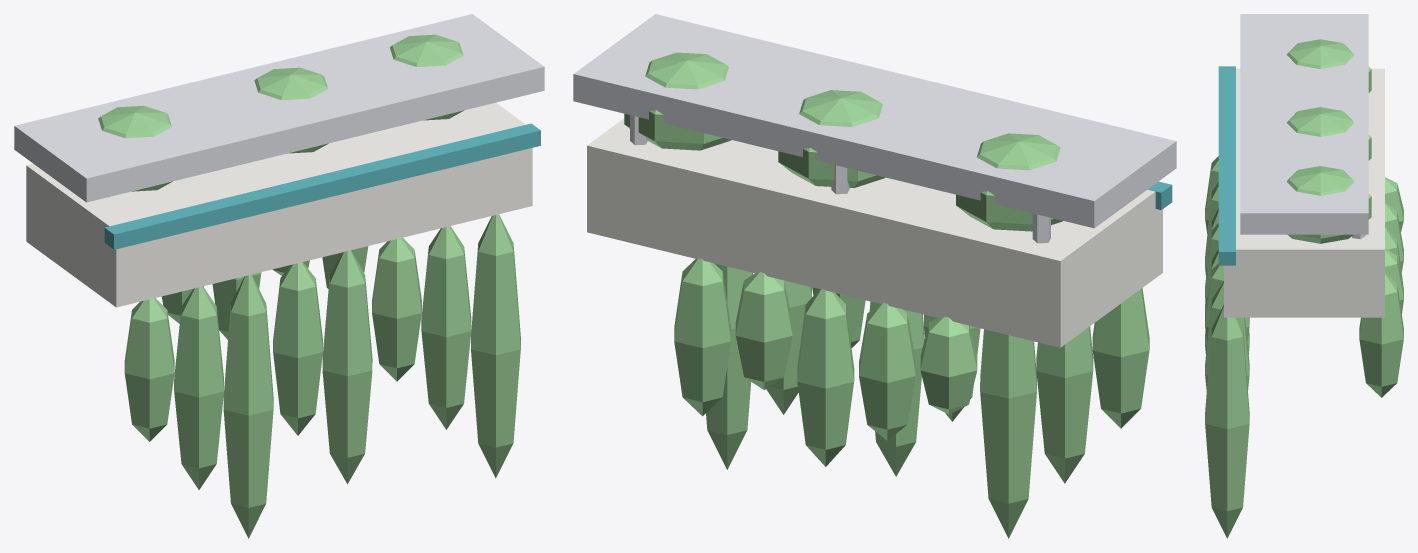
File: arcology-towers-and-skyways-hanging-garden-planter-0a31c0d8__23278.glb
3 views of the same model, side by side, from view 1: azimuth 30°, elevation 25°; view 2: azimuth 150°, elevation 25°; view 3: azimuth 270°, elevation 25° (orthographic). The views are drawn at different scales.
Parts seen in each view (by area): view 1: hanging-garden-planter; view 2: hanging-garden-planter; view 3: hanging-garden-planter.
Boxes of the visible parts, x1,y1,x2,y2 form: hanging-garden-planter: [14, 14, 544, 538]; hanging-garden-planter: [573, 14, 1176, 538]; hanging-garden-planter: [1205, 14, 1403, 538].
Bounding box in the file's own units: 4.4 × 3.7 × 1.86.
